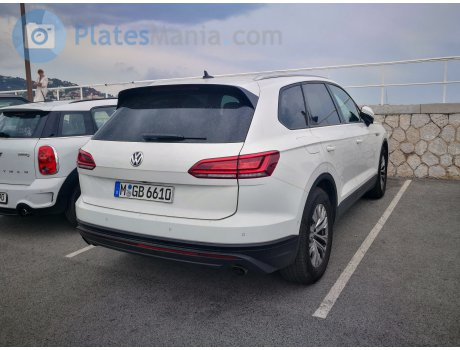License Plates: (119, 184, 170, 194)
